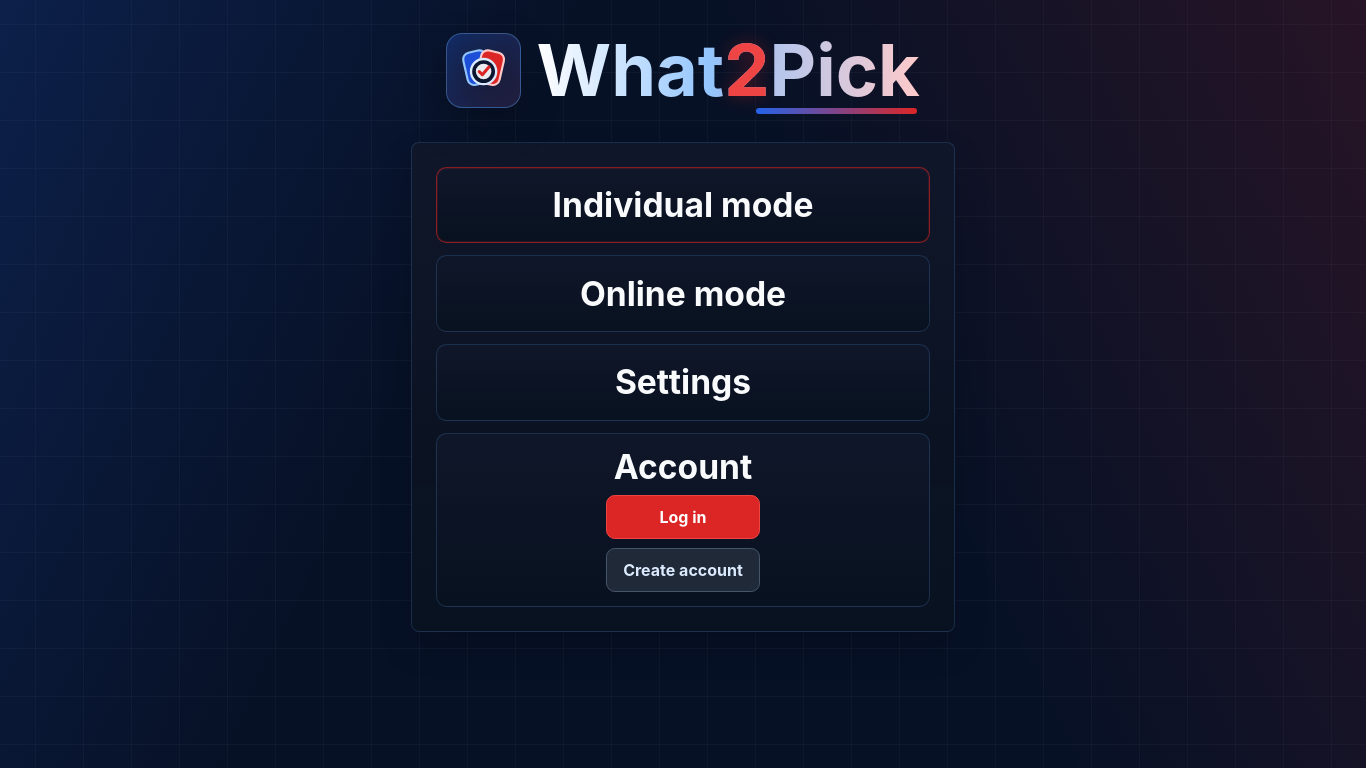
App › ignores legacy saved games while browsing as a guest
This screenshot has width=1366, height=768.
Click the button "Individual mode".
click(683, 205)  # box [436,167,930,243]
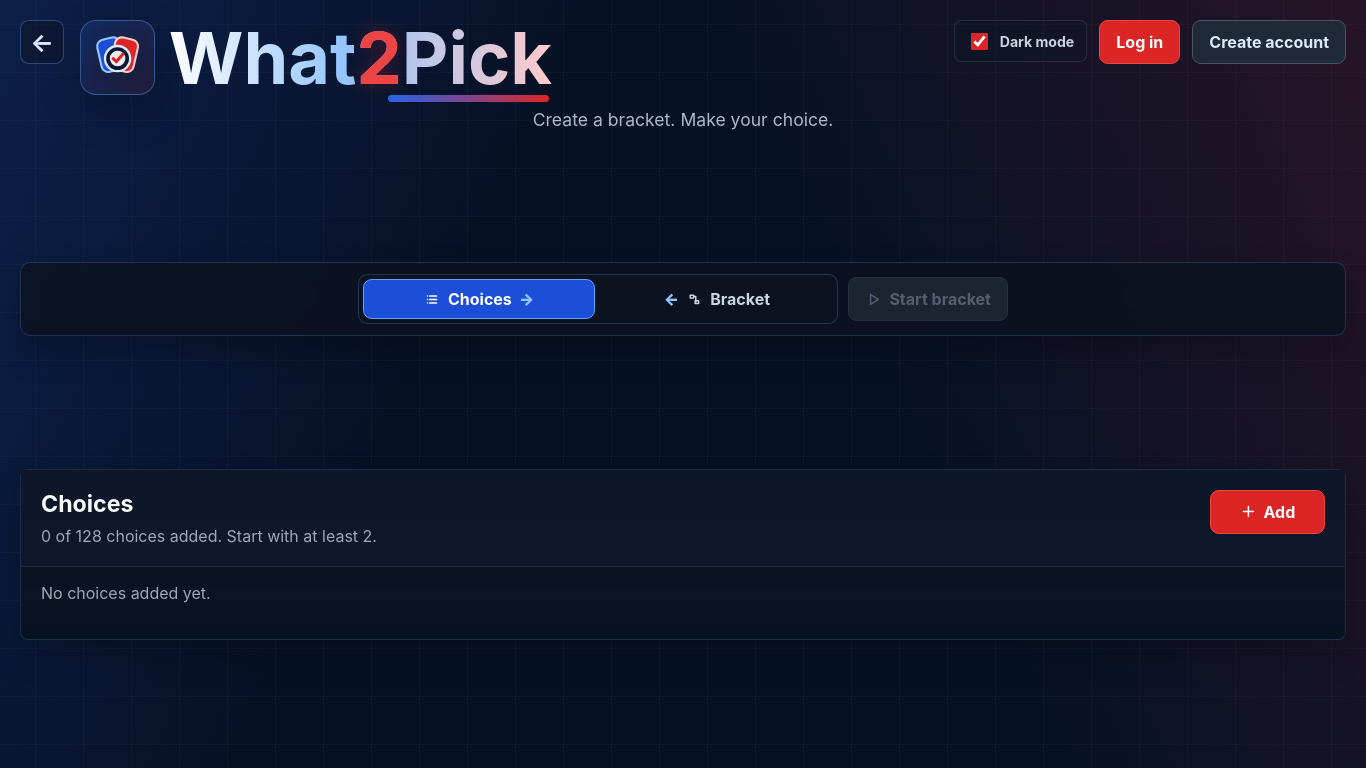
Now the text "0 of 128 choices added. Start with at least 2." is shown, box [41,526,377,546]
